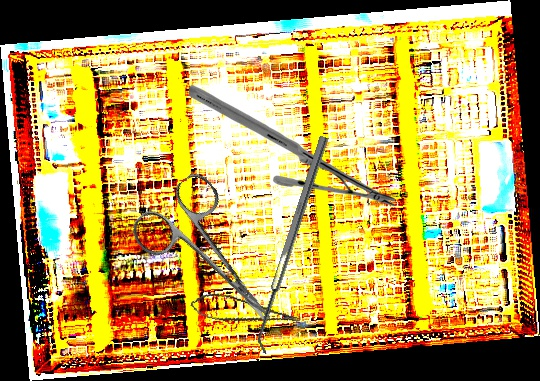Iris Scissors: (125, 168, 302, 352)
Micro Scissor: (188, 286, 302, 342)
Needle Holder: (189, 84, 395, 209)
Spatula Surgical: (250, 135, 338, 355)
